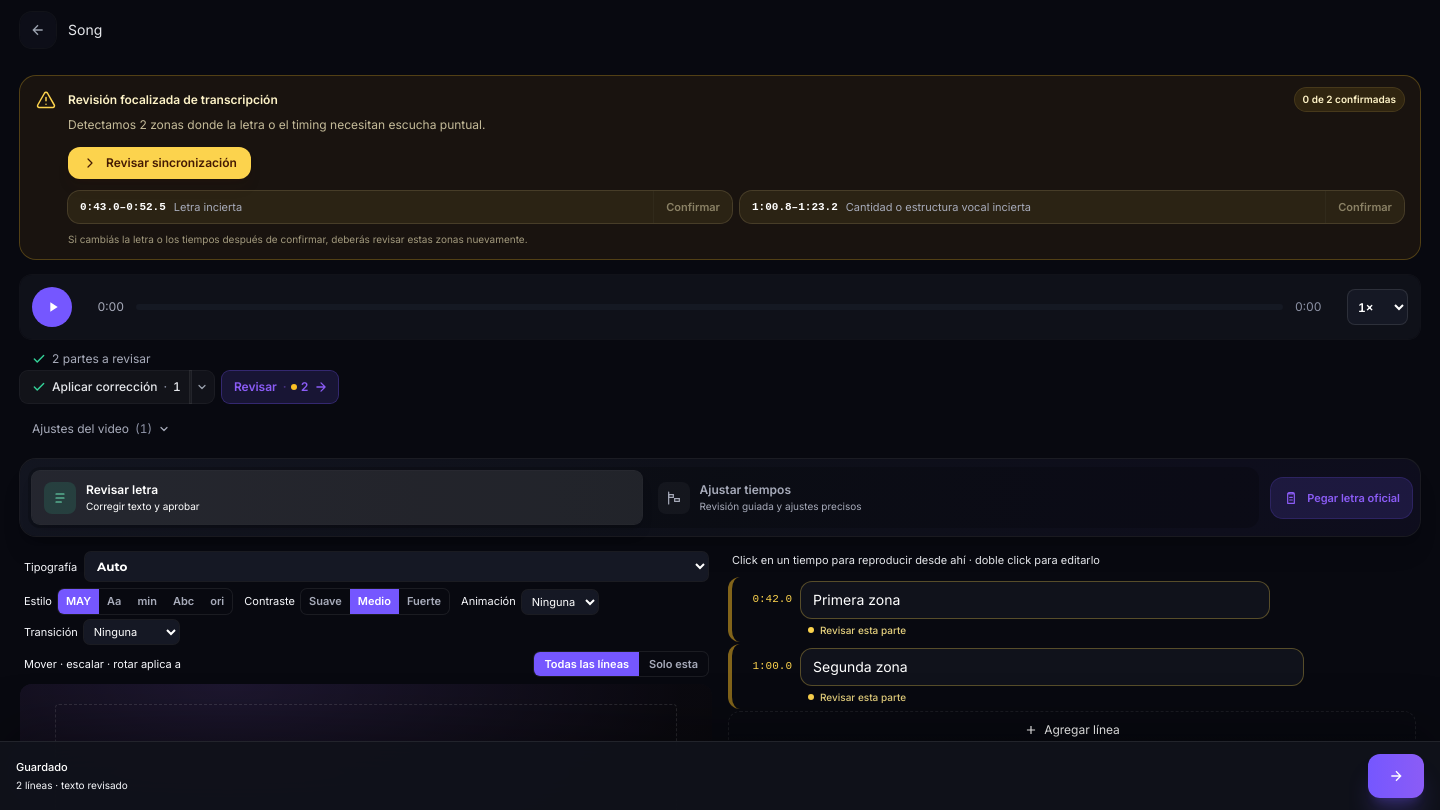
it: LyricsEditor — revisión focalizada transcription quality v5 › refresca quality tras reanchor success sin reemplazar nuevas ediciones
The image size is (1440, 810).
Click the tab "Ajustar tiempos": (674, 498) [646,471,1255,524]
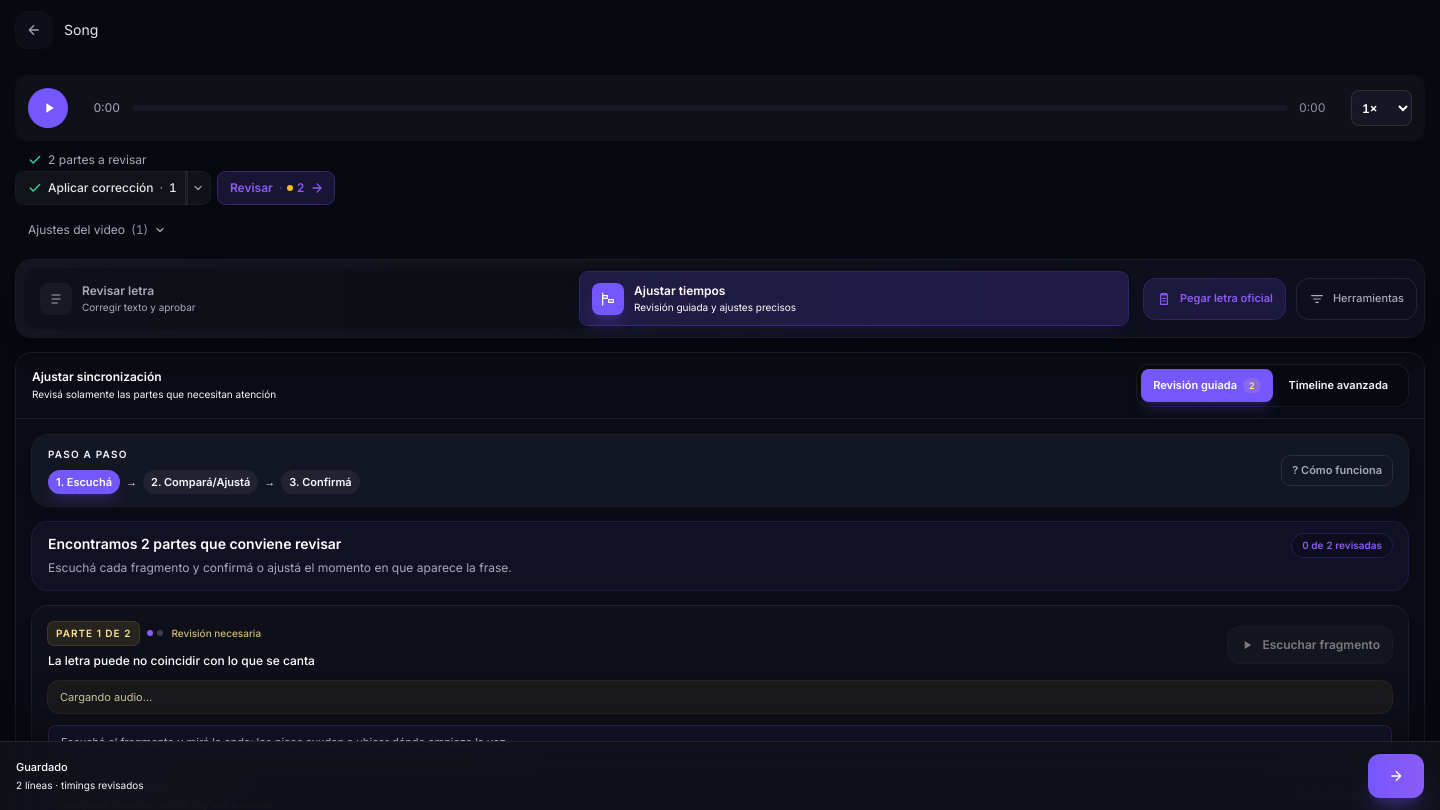
Click the button with test id "editor-overflow-btn": (1356, 298) [1297,278,1416,318]
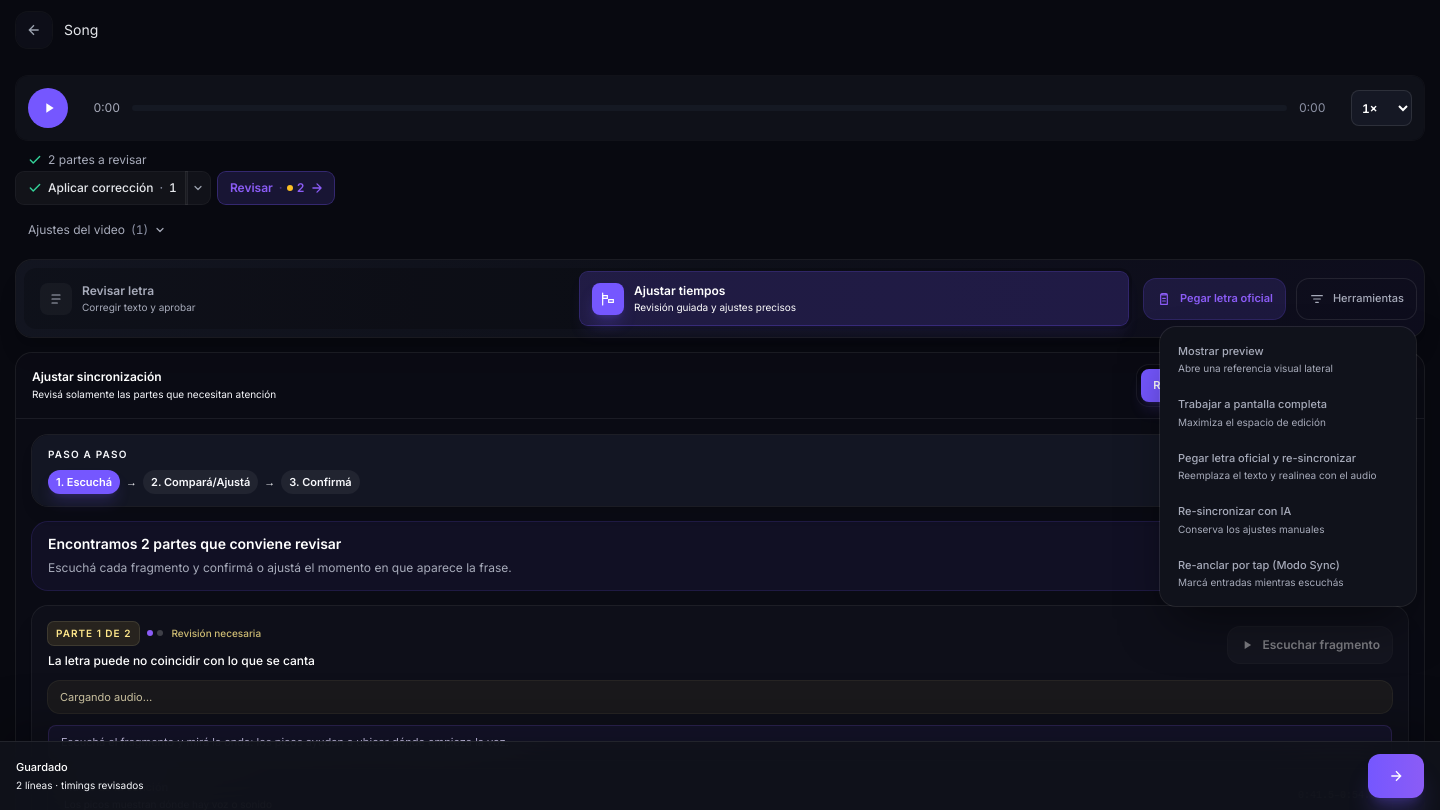
Click the menu item with test id "reanchor-btn": (1288, 520) [1166,493,1410,546]
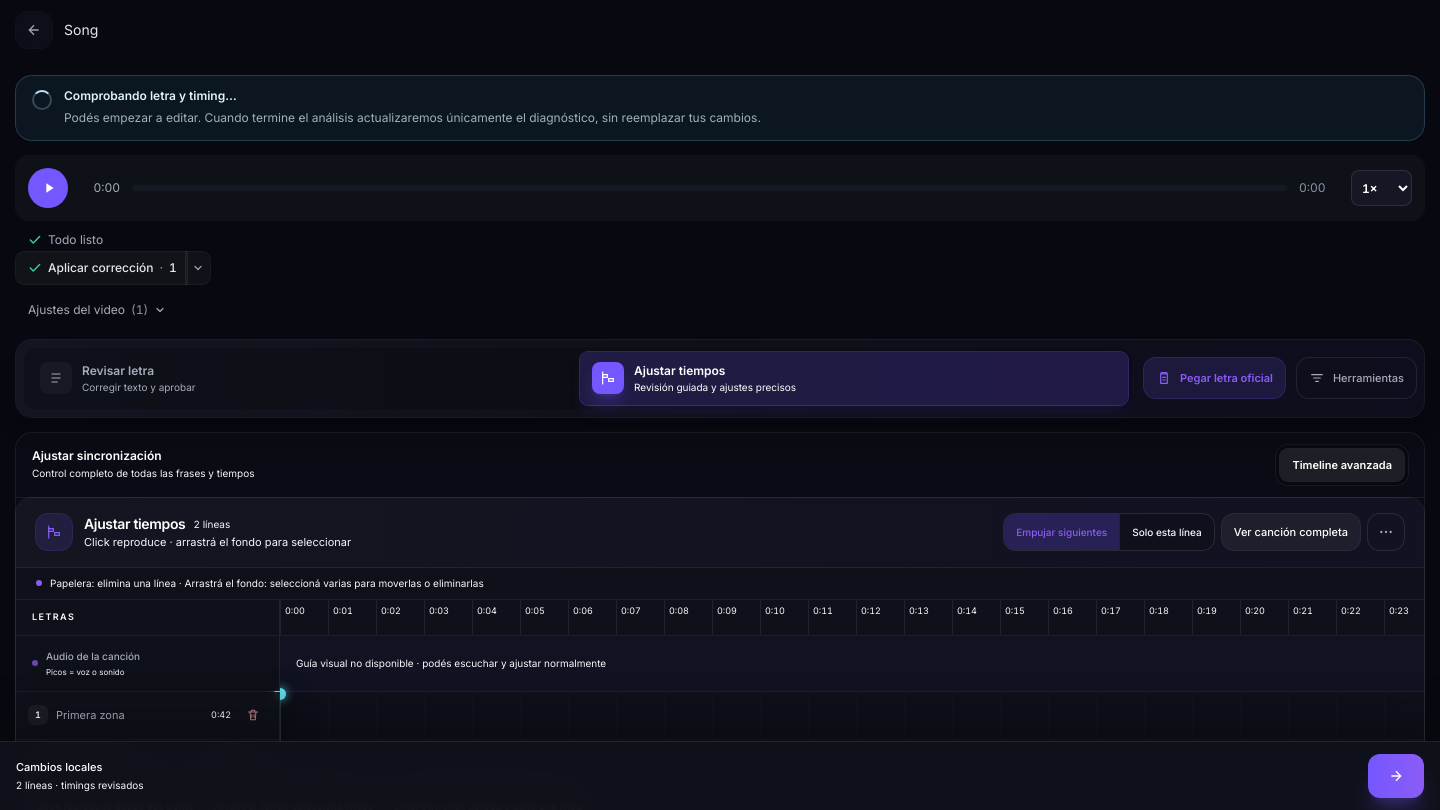
Expected: the message with test id "quality-analysis-pending" is shown, [16,76,1424,140]
Click the tab "Revisar letra Corregir texto y aprobar": (56, 378) [28,352,576,404]
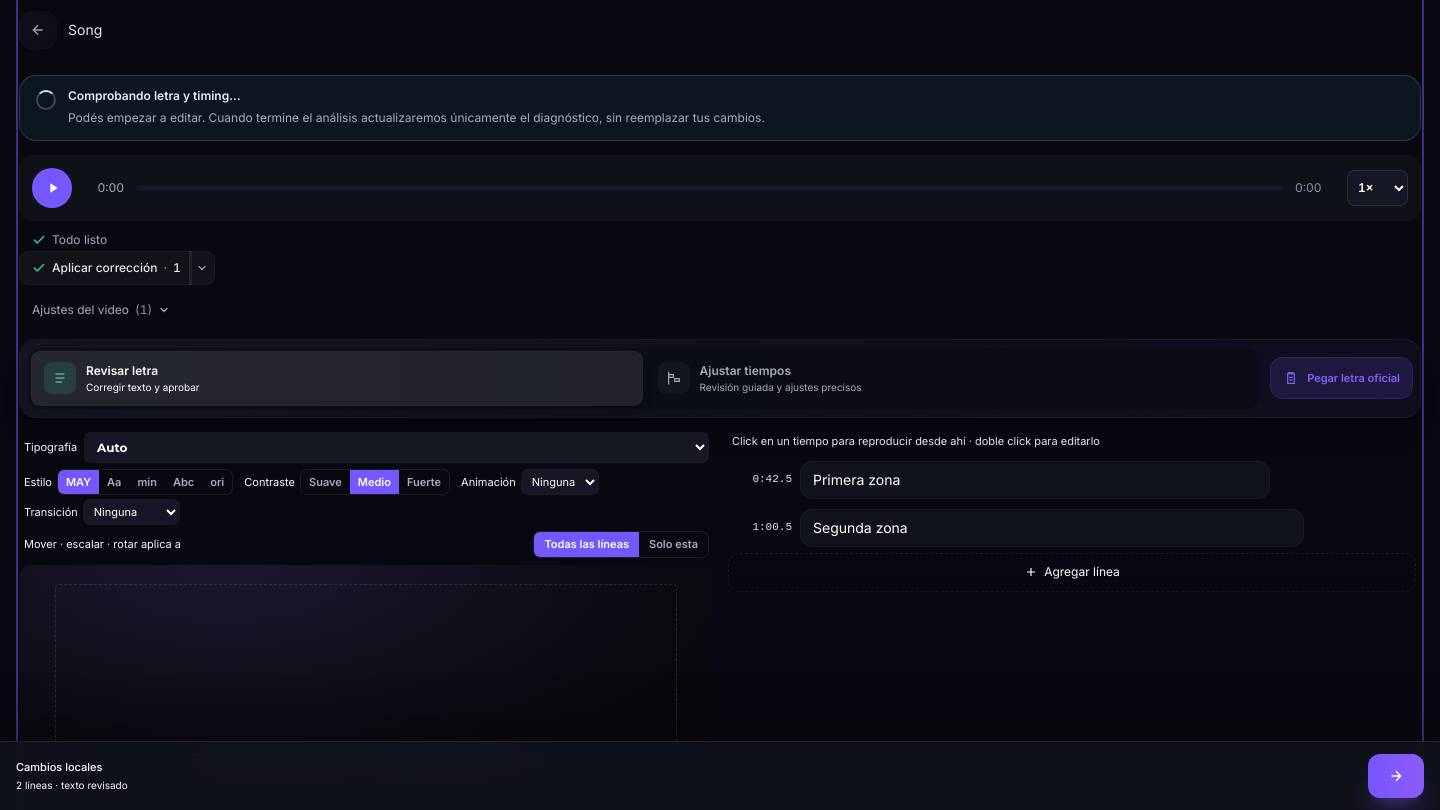
Replace the text in the field showing "Primera zona" with "Edición posterior al reanchor": (1035, 480) [800,461,1270,499]
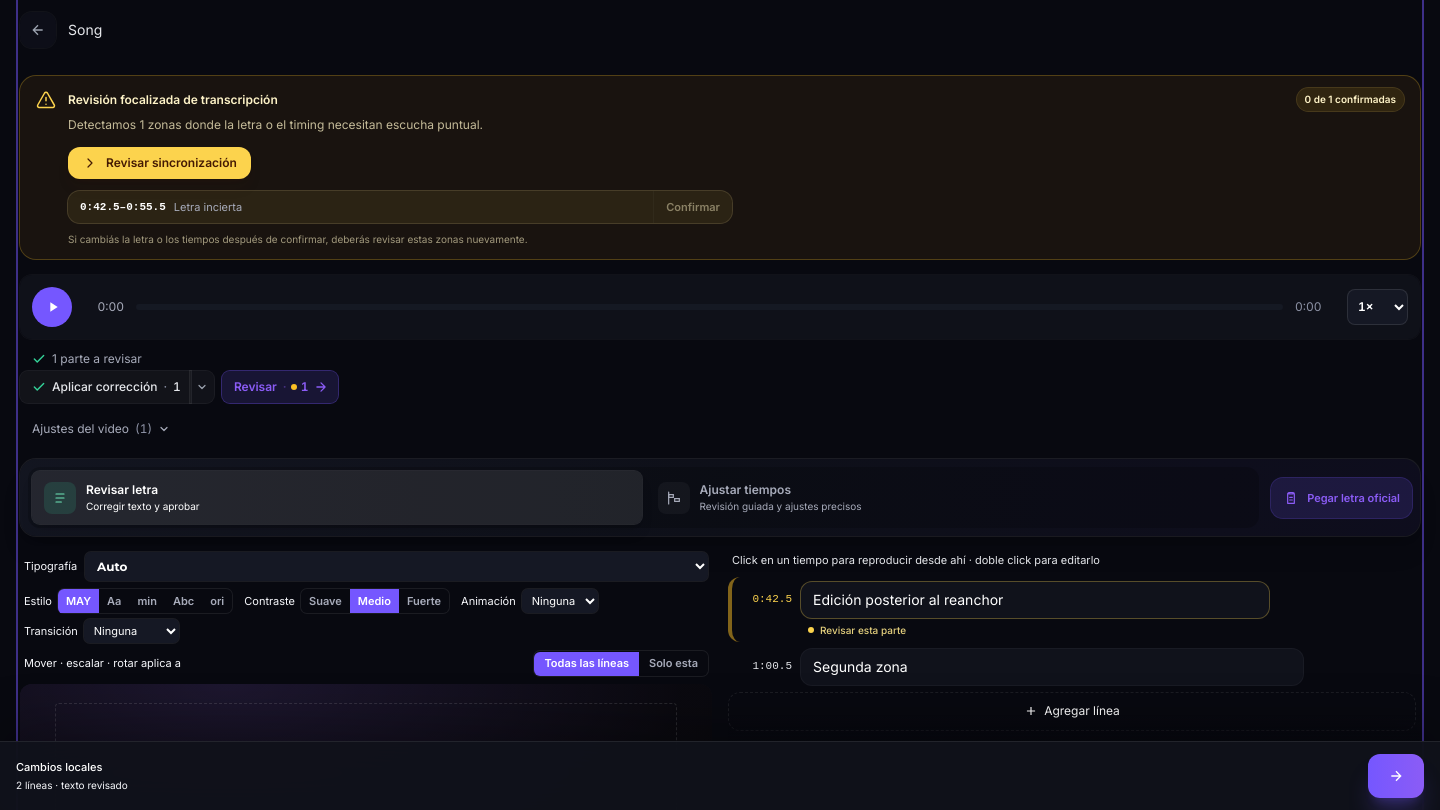
Expected: the message with test id "quality-analysis-pending" is gone
Expected: the element with test id "editor-confidence" shows "1 parte", [52,351,142,366]
